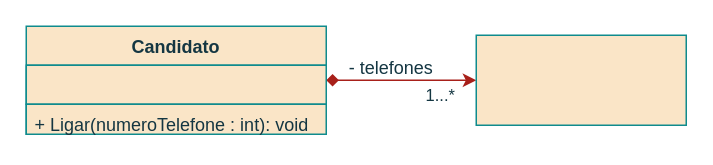
The diagram is 713 pixels wide and 165 high, and some of its shapes have lost their labels. The shapes that lost their labels are listed below. From the top down, each one's box as (x1, y1, x2, y2) in pixels, then its label:
(25, 64, 326, 104): - Nome : String
(475, 34, 686, 125): Telefone
